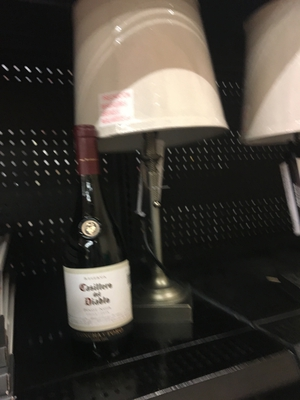casillero del diablo pinot noir: (45, 122, 161, 358)
